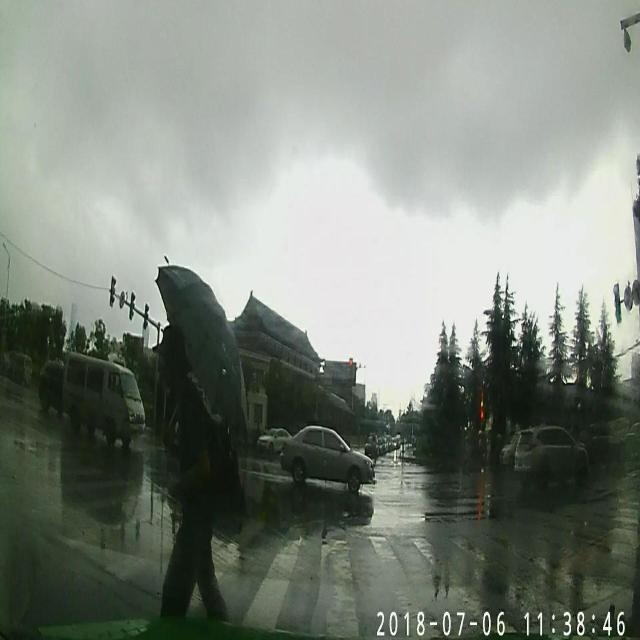car: (61, 351, 146, 446), (280, 423, 374, 491), (514, 426, 588, 488)
